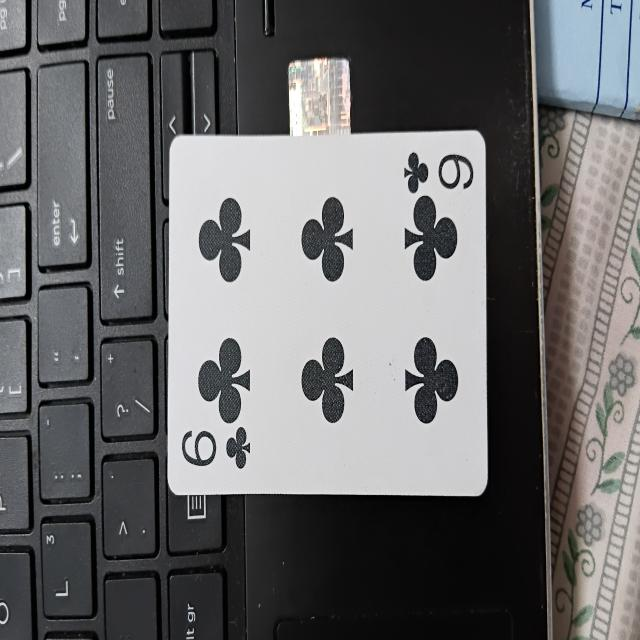6C: (168, 129, 492, 498)
